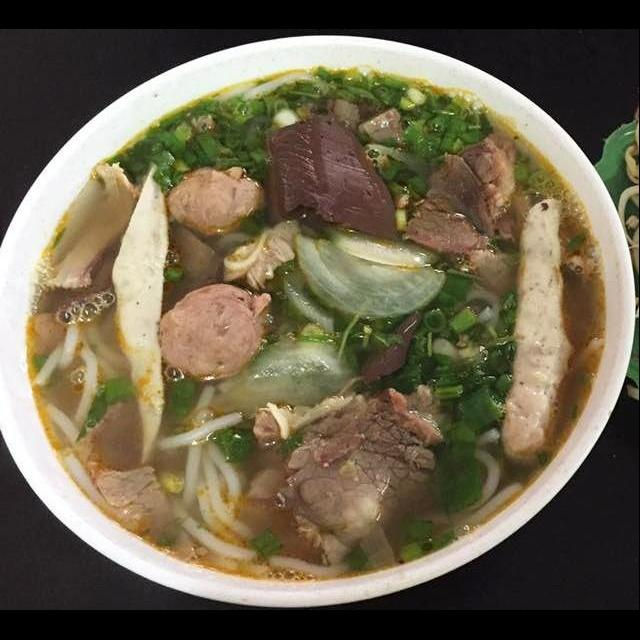bun: (156, 380, 356, 584), (28, 292, 134, 518), (414, 424, 528, 554)
bun bo: (23, 69, 639, 610)
thit bo: (242, 384, 458, 570), (394, 128, 536, 302), (68, 396, 206, 570)
